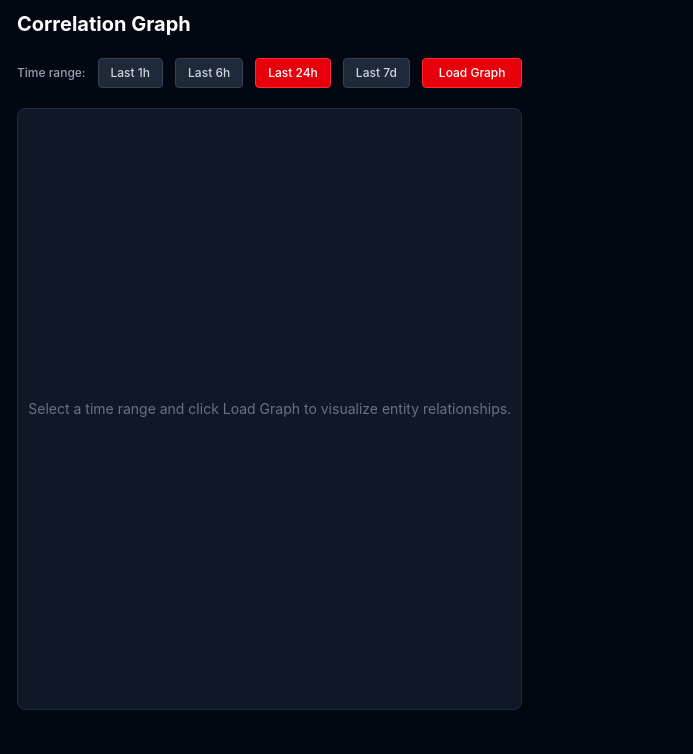
Scenario: CorrelationPage › FR #13 — search input › shows a clear button when search term is entered
Click the button "Load Graph" at (472, 73), box 422,58 -> 522,88
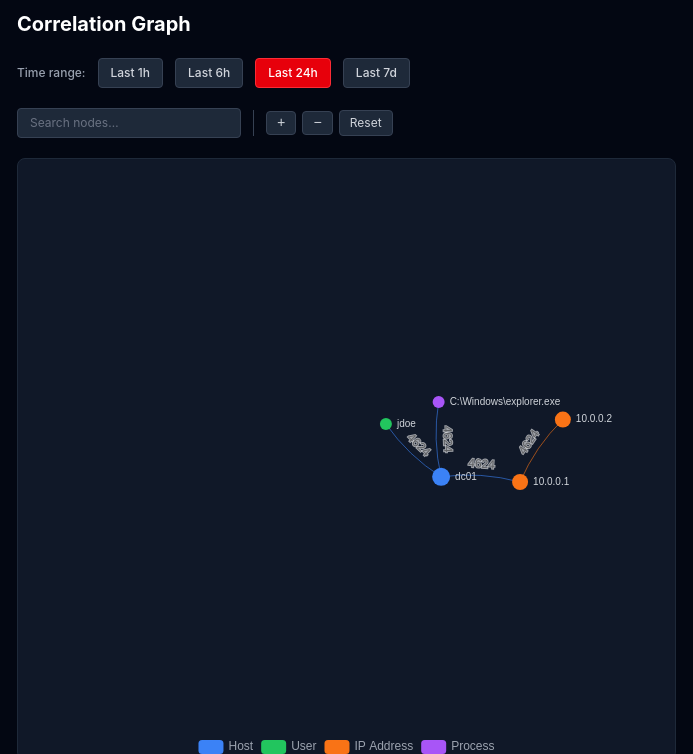
Now the search field named "search graph nodes" is shown
Type "dc01" into the search field named "search graph nodes" at (129, 123), box 17,108 -> 241,138
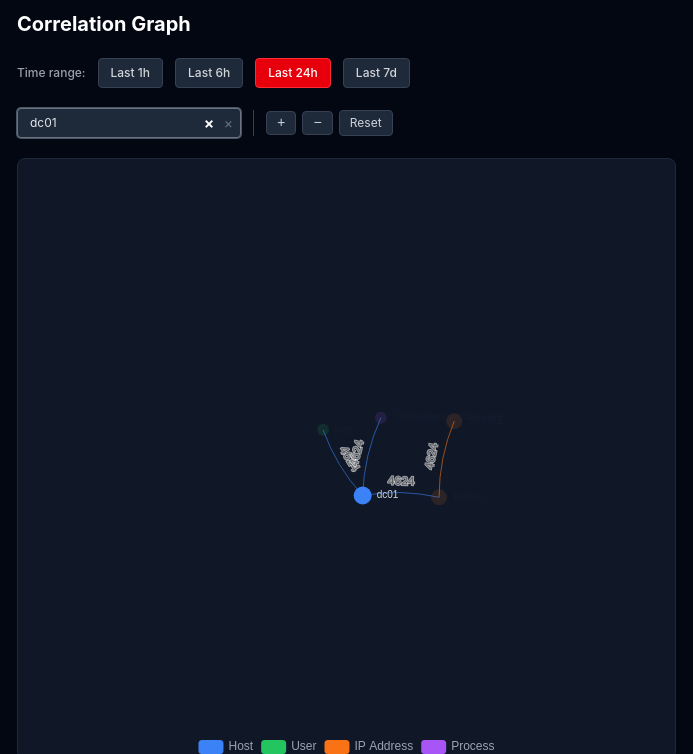
Now the button named "clear search" is shown, box 224,116 -> 233,130
